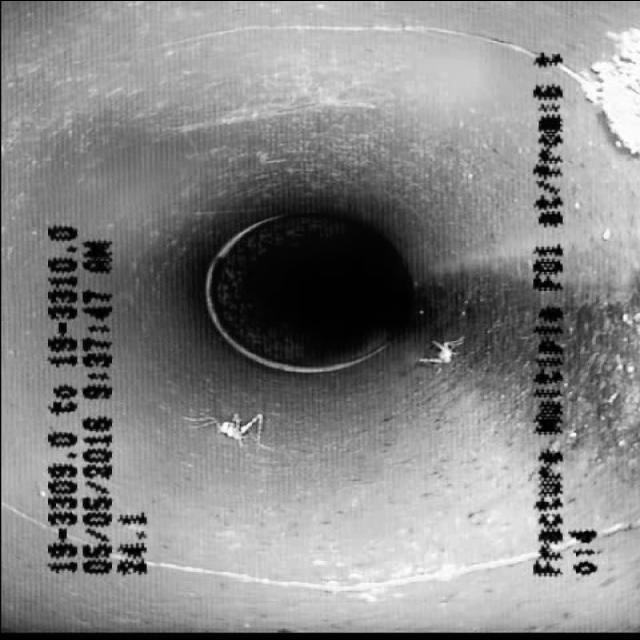Crack: (166, 532, 502, 616)
